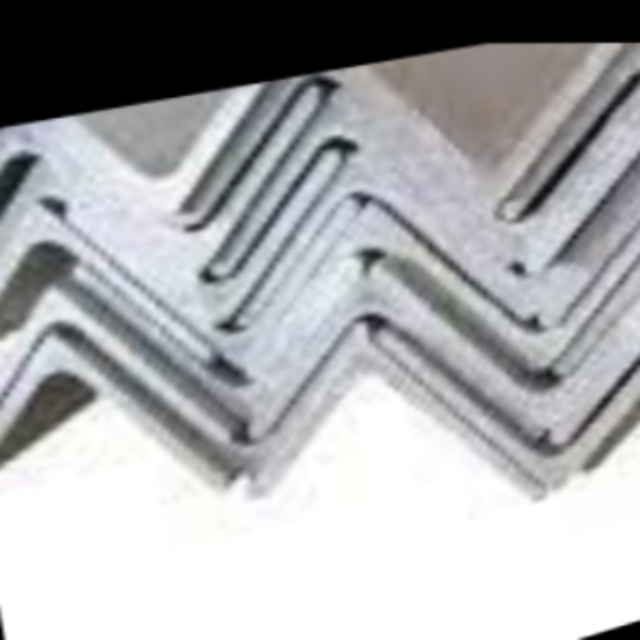Angle: (242, 324, 537, 564), (343, 49, 640, 271), (71, 167, 369, 387), (380, 217, 640, 456), (383, 273, 640, 513), (84, 229, 366, 436), (318, 43, 640, 223), (42, 86, 334, 282), (96, 295, 374, 494), (389, 174, 640, 394), (0, 271, 225, 494), (382, 140, 640, 333), (0, 321, 214, 542), (86, 161, 354, 333), (0, 78, 307, 225), (0, 197, 202, 399), (490, 43, 640, 259), (517, 105, 640, 328), (527, 156, 640, 378), (544, 284, 640, 534), (546, 214, 640, 441)
